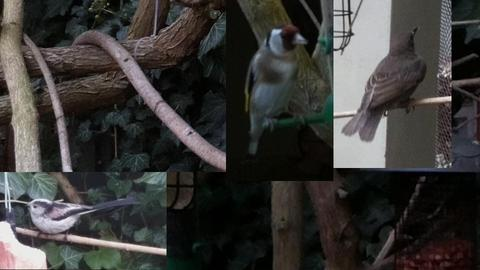goldfinch: (244, 25, 308, 156)
long tailed tit: (25, 197, 142, 242)
starling: (340, 25, 426, 143)
